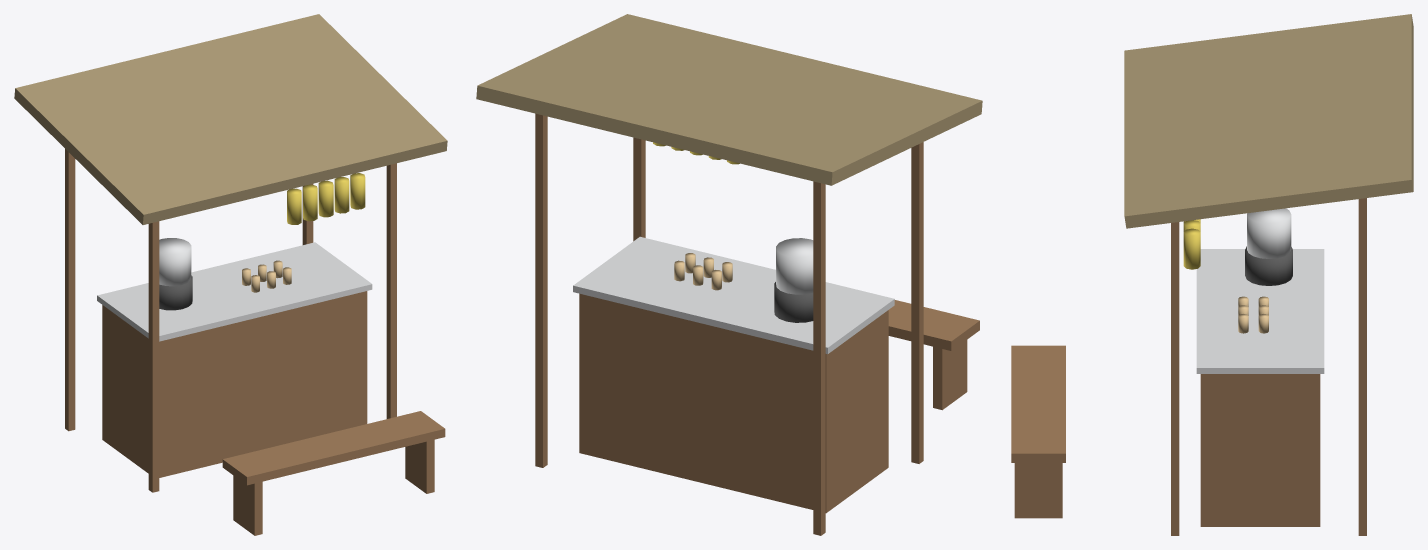
Rendered from life_thatched.glb.
3 views of the same model, side by side, from view 1: azimuth 30°, elevation 25°; view 2: azimuth 150°, elevation 25°; view 3: azimuth 270°, elevation 25° (orthographic). The views are drawn at different scales.
Visible parts, largest first — view 1: Counter; view 2: Counter; view 3: Counter.
Boxes of the visible parts, bbox=[...] form: Counter: bbox=[14, 14, 447, 535]; Counter: bbox=[476, 14, 982, 535]; Counter: bbox=[1011, 14, 1413, 535].
Size of the model in its own units: 2.3 by 2.41 by 2.36.
